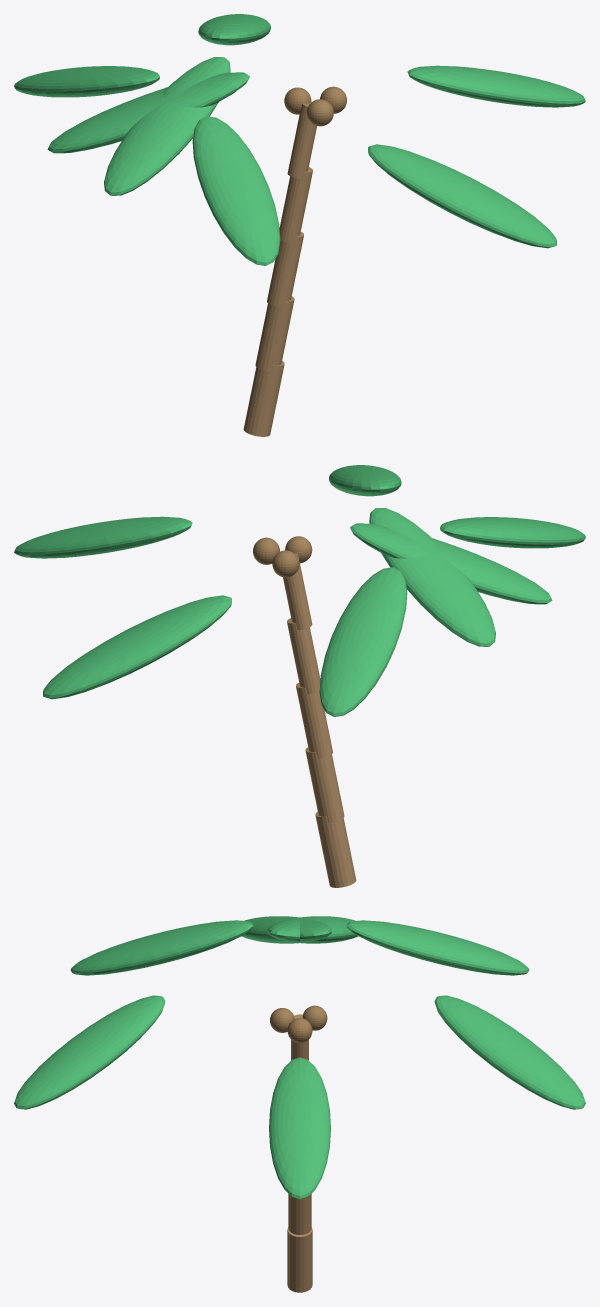
File: palm_tree_v2.glb
3 renders of one model, top to bottom at view 1: azimuth 30°, elevation 25°; view 2: azimuth 150°, elevation 25°; view 3: azimuth 270°, elevation 25°, orthographic. The views are drawn at different scales.
Visible parts, largest first — view 1: Frond5, Frond6, Frond4, Frond3, Frond0, Frond2, TrunkSeg0, Frond1, TrunkSeg1, TrunkSeg2, TrunkSeg3, TrunkSeg4 (+1 smaller); view 2: Frond2, Frond1, Frond3, Frond4, Frond0, Frond5, TrunkSeg0, Frond6, TrunkSeg1, TrunkSeg2, TrunkSeg3, TrunkSeg4 (+2 smaller); view 3: Frond0, Frond1, Frond6, Frond2, Frond5, TrunkSeg0, Frond3, Frond4, TrunkSeg1, Coconut0.
Boxes of the visible parts, x1,y1,x2,y2 form: Frond5: (192, 116, 280, 265); Frond6: (368, 144, 556, 248); Frond4: (104, 57, 230, 195); Frond3: (47, 72, 249, 153); Frond0: (407, 65, 585, 107); Frond2: (14, 66, 159, 97); TrunkSeg0: (243, 361, 284, 436); Frond1: (198, 14, 270, 45); TrunkSeg1: (255, 296, 294, 371); TrunkSeg2: (267, 232, 303, 307); TrunkSeg3: (279, 167, 312, 243); TrunkSeg4: (287, 101, 316, 178); Frond2: (319, 567, 407, 716); Frond1: (43, 595, 231, 699); Frond3: (369, 508, 495, 646); Frond4: (350, 523, 552, 604); Frond0: (14, 516, 192, 558); Frond5: (440, 517, 585, 548); TrunkSeg0: (315, 812, 356, 887); Frond6: (329, 465, 401, 496); TrunkSeg1: (305, 747, 344, 822); TrunkSeg2: (296, 683, 332, 758); TrunkSeg3: (287, 618, 320, 694); TrunkSeg4: (283, 553, 312, 629); Frond0: (269, 1057, 330, 1198); Frond1: (434, 995, 585, 1109); Frond6: (14, 995, 165, 1109); Frond2: (346, 920, 529, 975); Frond5: (70, 920, 253, 975); TrunkSeg0: (287, 1227, 312, 1292); Frond3: (268, 916, 358, 943); Frond4: (241, 916, 331, 943); TrunkSeg1: (288, 1193, 311, 1234); Coconut0: (287, 1018, 312, 1042).
Bounding box in the file's own units: 7.3 × 5.16 × 7.74.
